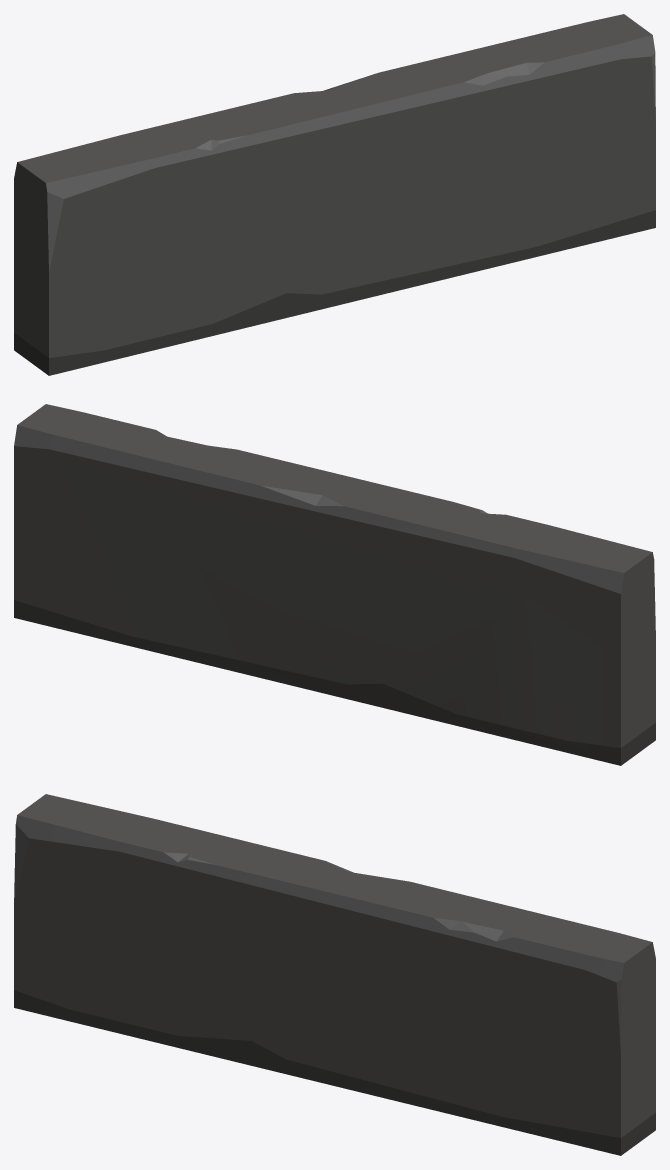
Rendered from 20C_Fence_120_01.fbx.
3 views of the same model, one above another, from view 1: azimuth 30°, elevation 25°; view 2: azimuth 150°, elevation 25°; view 3: azimuth 330°, elevation 25° (orthographic).
Parts seen in each view (by area): view 1: 20C_Fence_120_01; view 2: 20C_Fence_120_01; view 3: 20C_Fence_120_01.
Boxes of the visible parts, x1,y1,x2,y2 form: 20C_Fence_120_01: [14, 14, 655, 375]; 20C_Fence_120_01: [14, 404, 655, 765]; 20C_Fence_120_01: [14, 794, 655, 1155].
Size of the model in its own units: 40 by 12 by 4.06.
